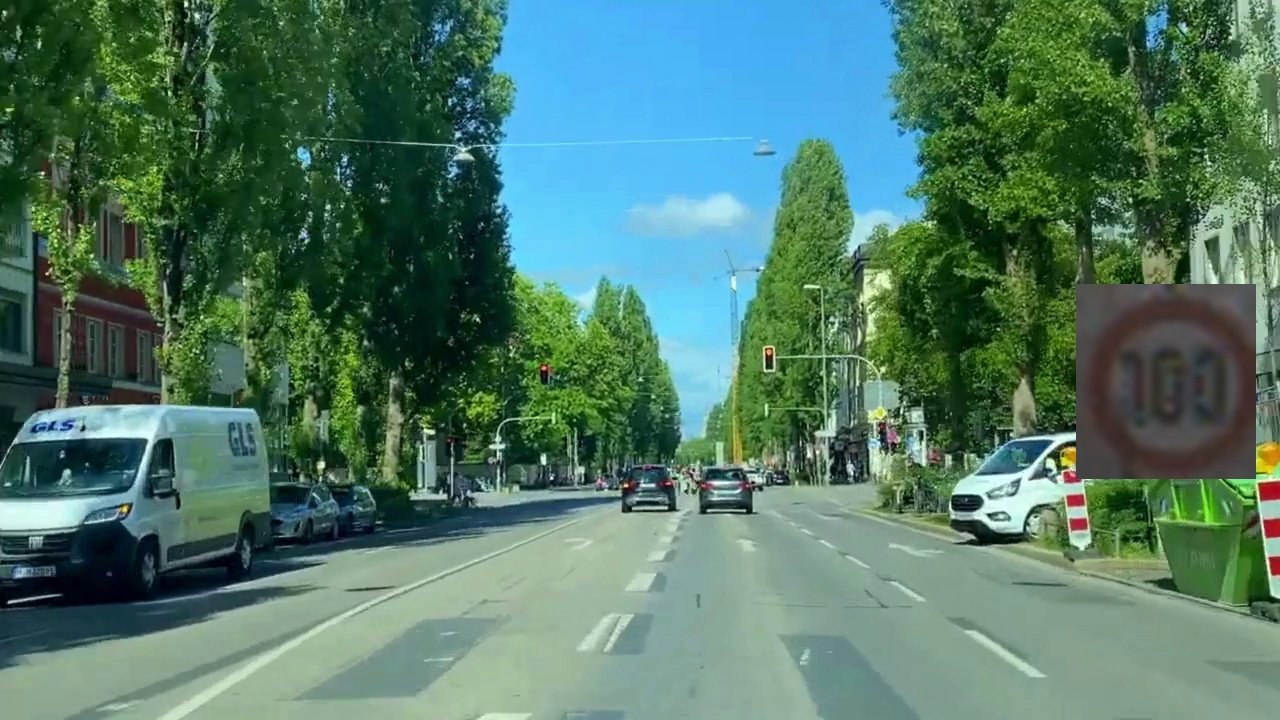Speed 100: (1076, 284, 1256, 479)
